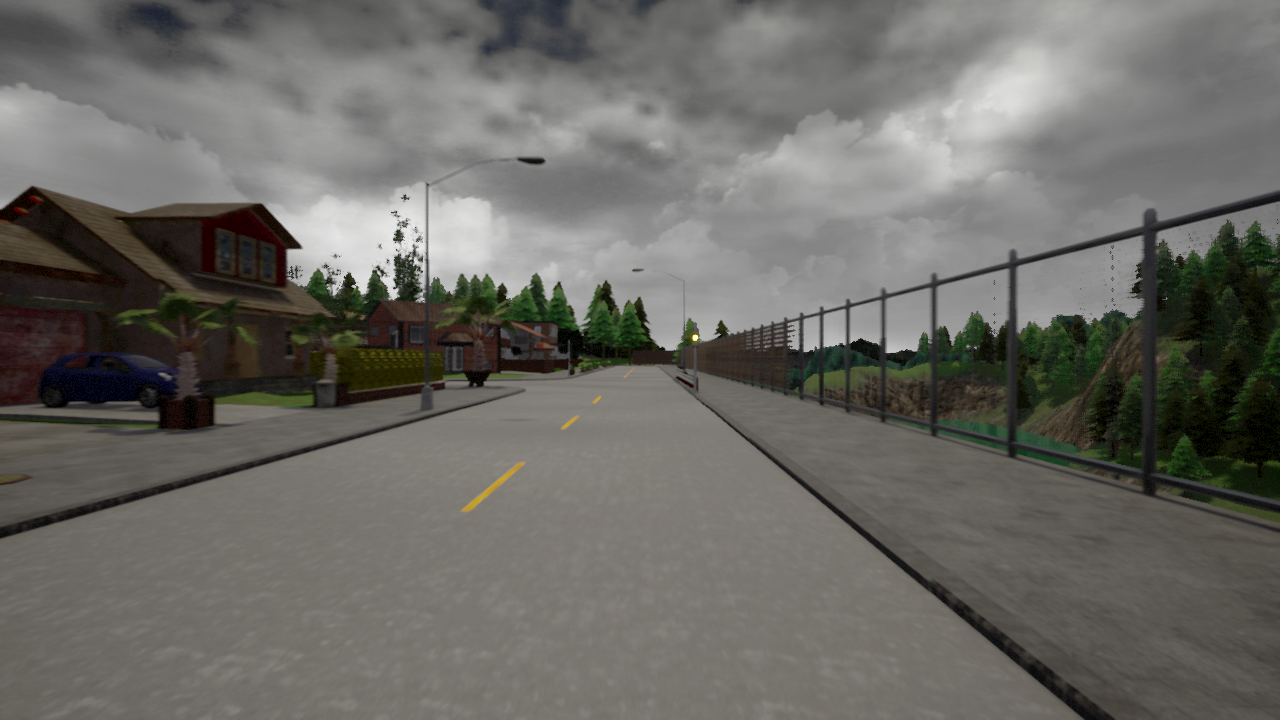yellow: (691, 328, 700, 347)
